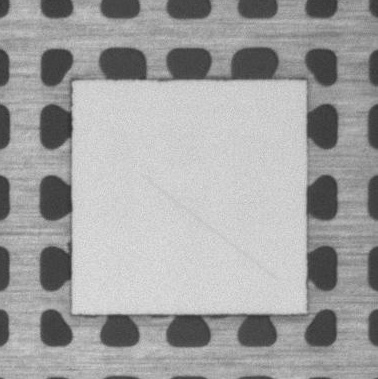DIE_CRACK: (142, 175, 276, 280)
